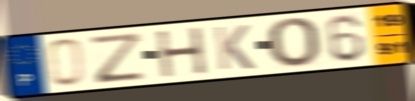0: (44, 36, 90, 89)
6: (324, 12, 367, 65)
H: (153, 25, 210, 80)
K: (211, 23, 257, 72)
O: (264, 16, 322, 70)
Z: (88, 31, 147, 86)
